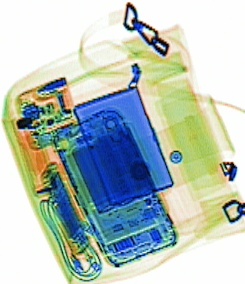powerbank: (71, 119, 154, 213)
